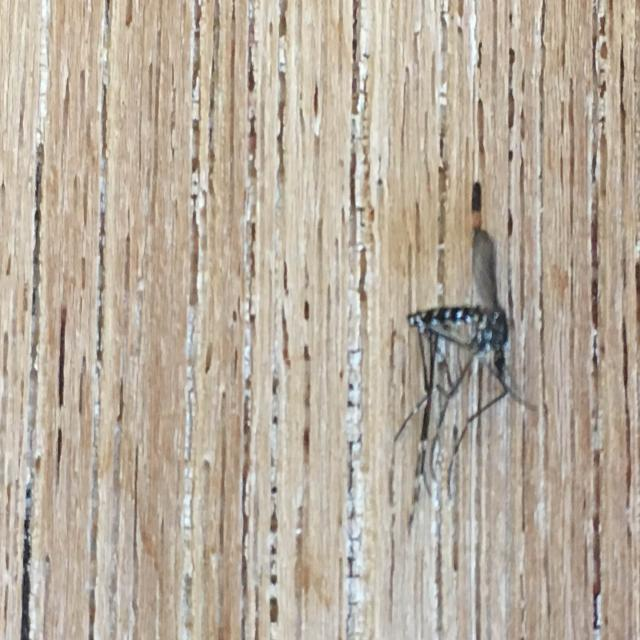albopictus: (385, 268, 552, 503)
